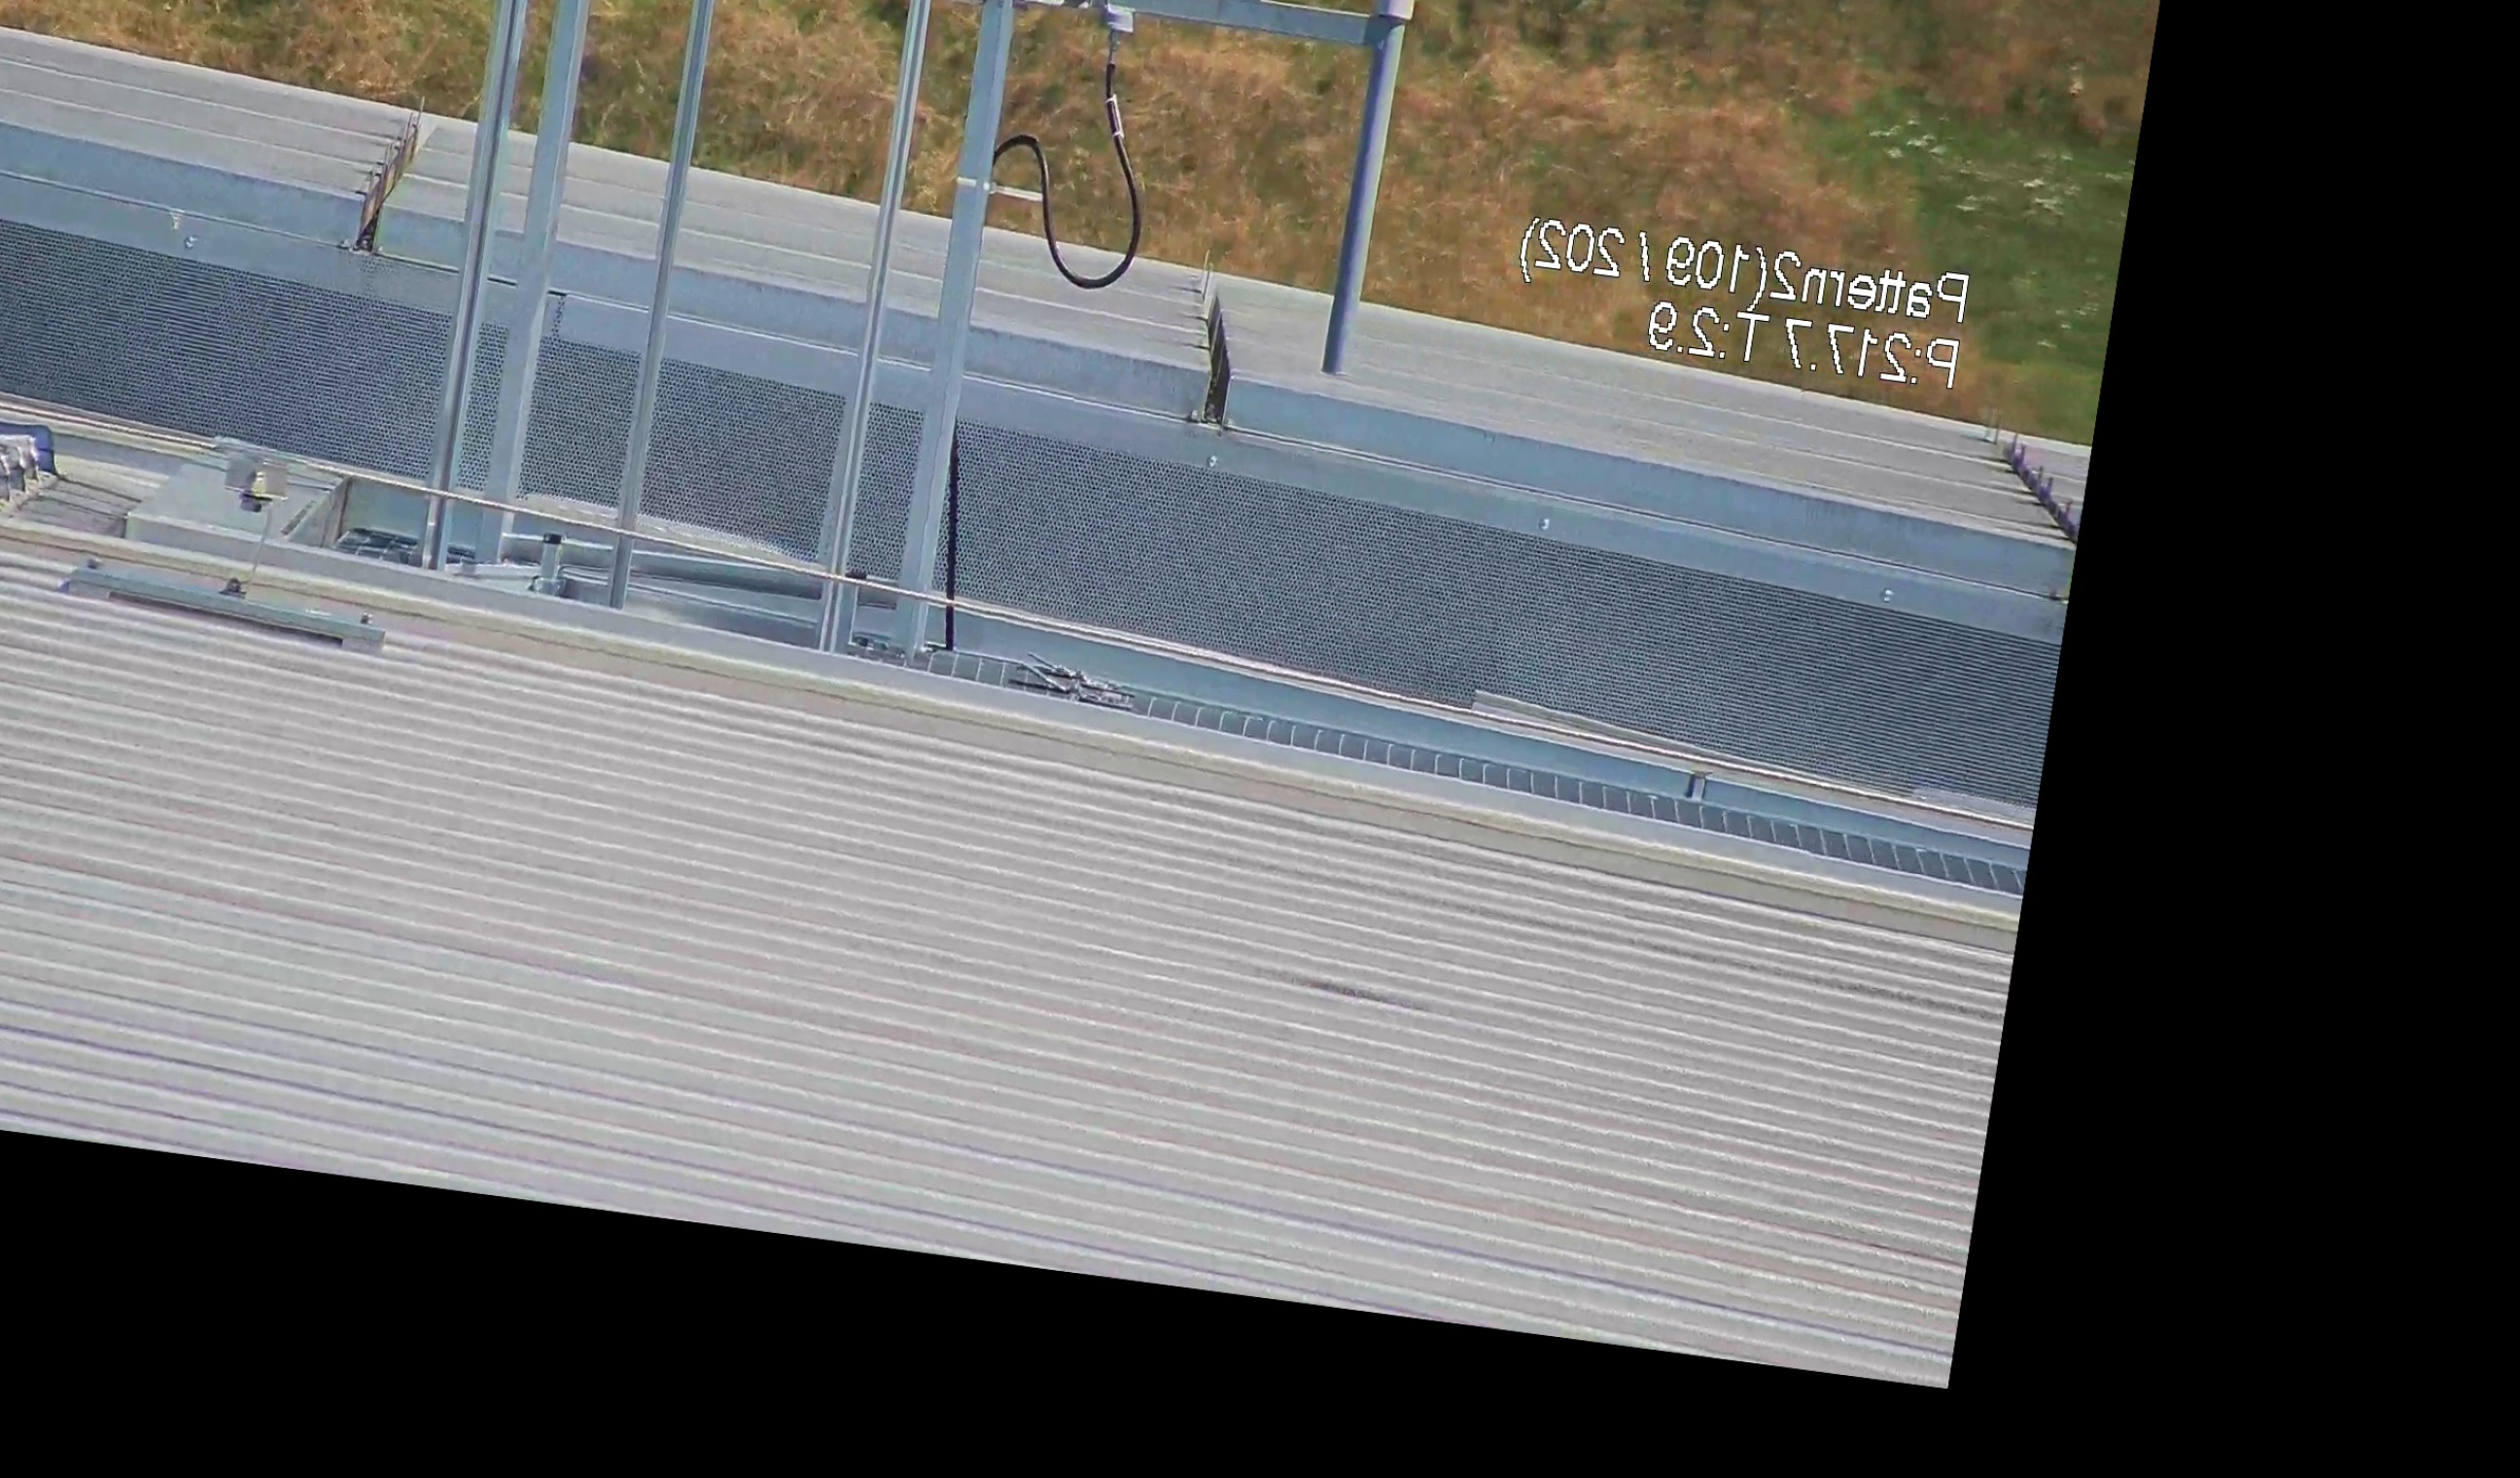Other: (1178, 273, 1264, 433)
